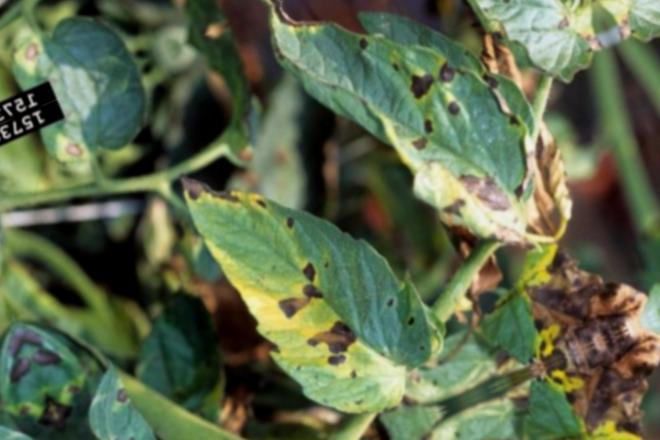Tomato Early blight leaf: (164, 125, 463, 440), (262, 0, 566, 303)
